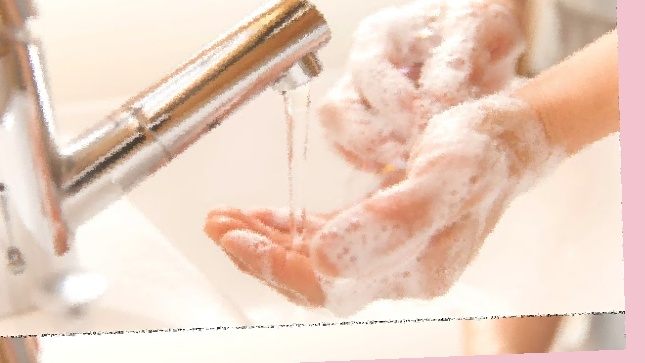washing hand: (21, 0, 560, 326)
